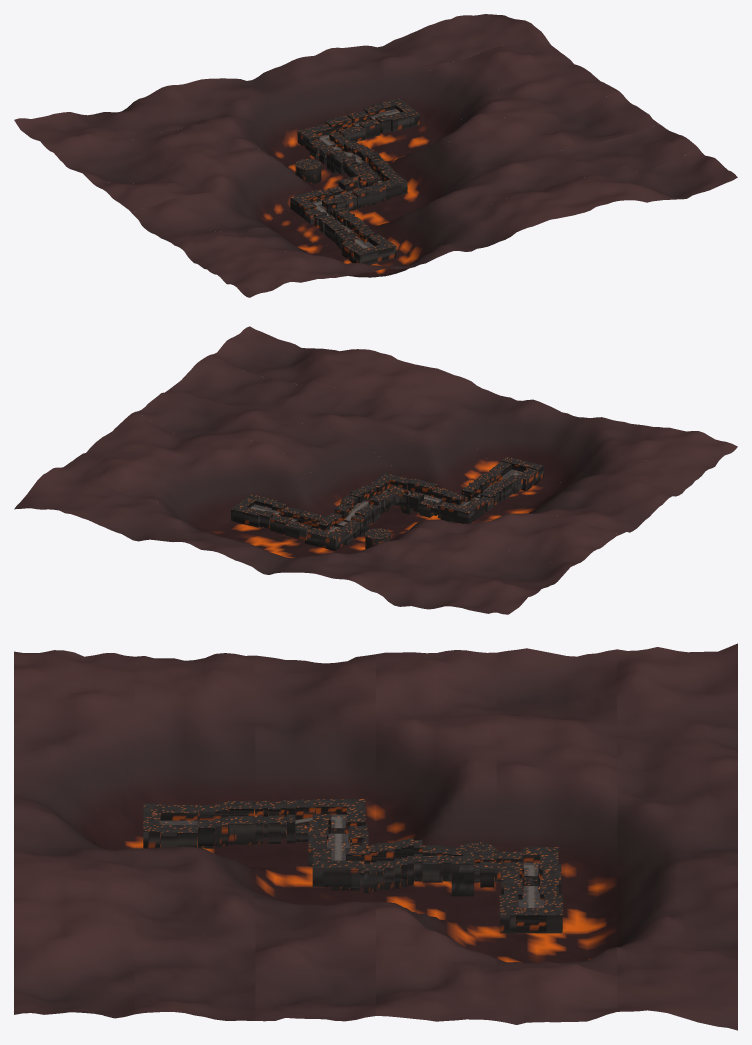
Rendered from obsidian_steps_terrain.glb.
The picture shows the model from 3 angles, top to bottom: view 1: azimuth 30°, elevation 25°; view 2: azimuth 150°, elevation 25°; view 3: azimuth 270°, elevation 25°; orthographic projection. The views are drawn at different scales.
Parts seen in each view (by area): view 1: backdrop_5, backdrop_4, backdrop_2, backdrop_3, backdrop_0, backdrop_1, terrain_F, terrain_H, terrain_J, terrain_A, terrain_D, terrain_E (+4 smaller); view 2: backdrop_0, backdrop_1, backdrop_3, backdrop_5, backdrop_4, backdrop_2, terrain_H, terrain_D, terrain_F, terrain_J, terrain_G, terrain_E (+4 smaller); view 3: backdrop_5, backdrop_0, backdrop_4, backdrop_3, backdrop_1, backdrop_2, terrain_F, terrain_J, terrain_C, terrain_G, terrain_B, terrain_A (+3 smaller).
Part boxes in pixels (left/top/right/bottom): backdrop_5: left=14, top=14, right=540, bottom=153; backdrop_4: left=54, top=31, right=580, bottom=183; backdrop_2: left=132, top=92, right=658, bottom=249; backdrop_3: left=93, top=66, right=619, bottom=218; backdrop_0: left=211, top=148, right=737, bottom=297; backdrop_1: left=171, top=124, right=698, bottom=276; terrain_F: left=334, top=146, right=407, bottom=200; terrain_H: left=297, top=112, right=374, bottom=150; terrain_J: left=295, top=98, right=419, bottom=183; terrain_A: left=341, top=234, right=396, bottom=264; terrain_D: left=290, top=186, right=357, bottom=216; terrain_E: left=338, top=174, right=388, bottom=208; backdrop_0: left=211, top=326, right=737, bottom=482; backdrop_1: left=171, top=355, right=698, bottom=513; backdrop_3: left=93, top=413, right=619, bottom=562; backdrop_5: left=14, top=468, right=540, bottom=614; backdrop_4: left=54, top=445, right=579, bottom=590; backdrop_2: left=132, top=388, right=658, bottom=534; terrain_H: left=276, top=508, right=346, bottom=550; terrain_D: left=419, top=487, right=479, bottom=523; terrain_F: left=341, top=473, right=403, bottom=522; terrain_J: left=231, top=494, right=391, bottom=549; terrain_G: left=316, top=500, right=372, bottom=545; terrain_E: left=387, top=477, right=437, bottom=514; backdrop_5: left=617, top=643, right=737, bottom=1030; backdrop_0: left=14, top=650, right=134, bottom=1018; backdrop_4: left=496, top=648, right=617, bottom=1024; backdrop_3: left=376, top=650, right=496, bottom=1021; backdrop_1: left=134, top=653, right=255, bottom=1020; backdrop_2: left=255, top=654, right=375, bottom=1021; terrain_F: left=312, top=838, right=442, bottom=893; terrain_J: left=458, top=842, right=562, bottom=933; terrain_C: left=254, top=799, right=329, bottom=843; terrain_G: left=442, top=846, right=522, bottom=896; terrain_B: left=198, top=801, right=254, bottom=848; terrain_A: left=143, top=803, right=197, bottom=848.
Bounding box in the file's own units: 602 × 65.2 × 504.
